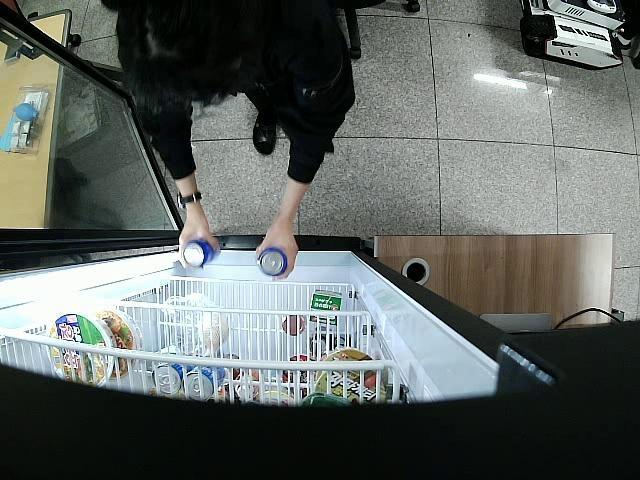13_pocariSweat: (258, 248, 288, 279), (183, 240, 214, 267)
